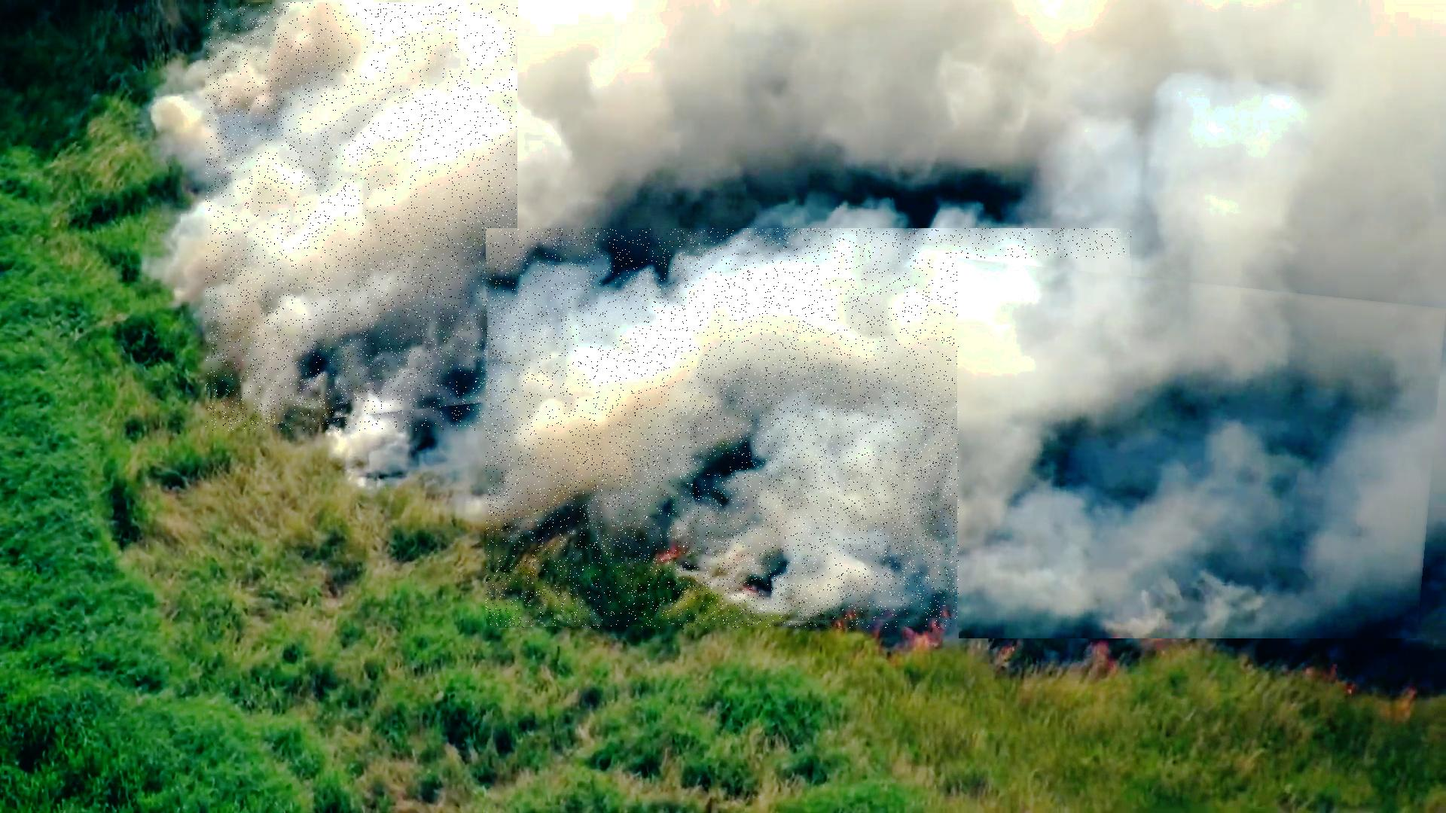smoke: (486, 228, 1132, 628), (959, 258, 1446, 638), (206, 2, 517, 431)
